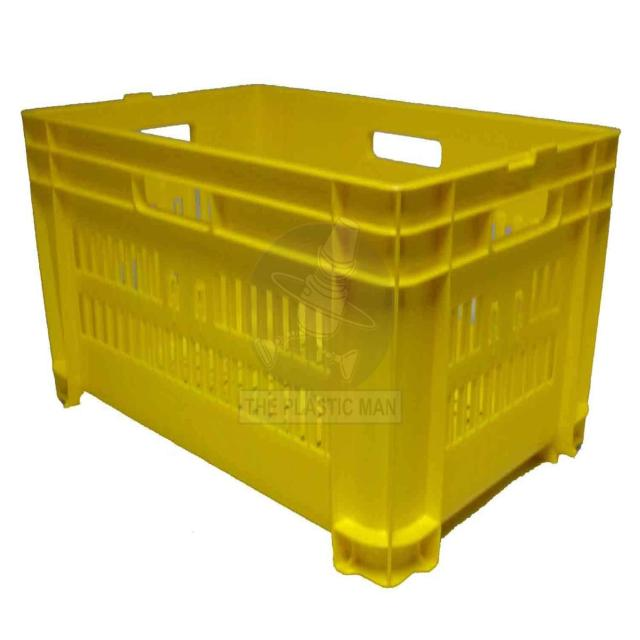basket: (0, 57, 622, 607)
